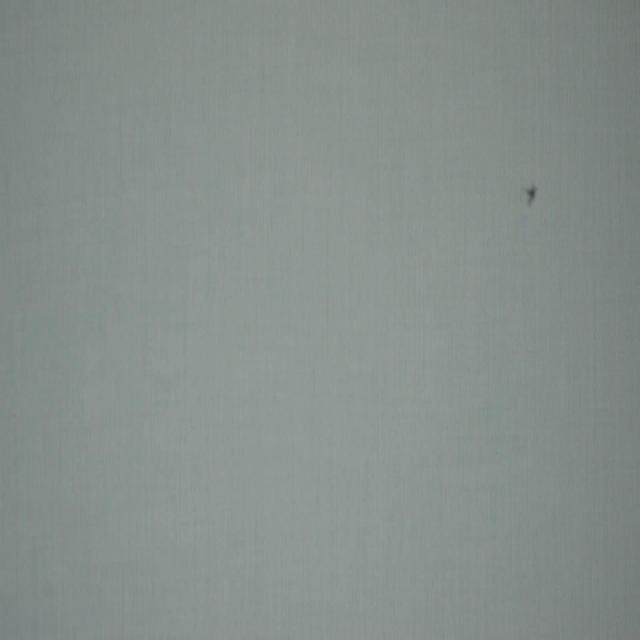dirty: (522, 183, 537, 207)
